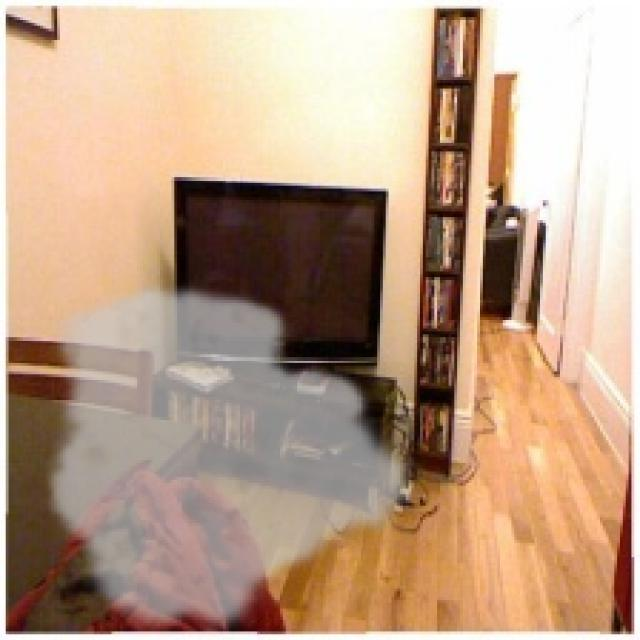smoke: (43, 280, 426, 637)
